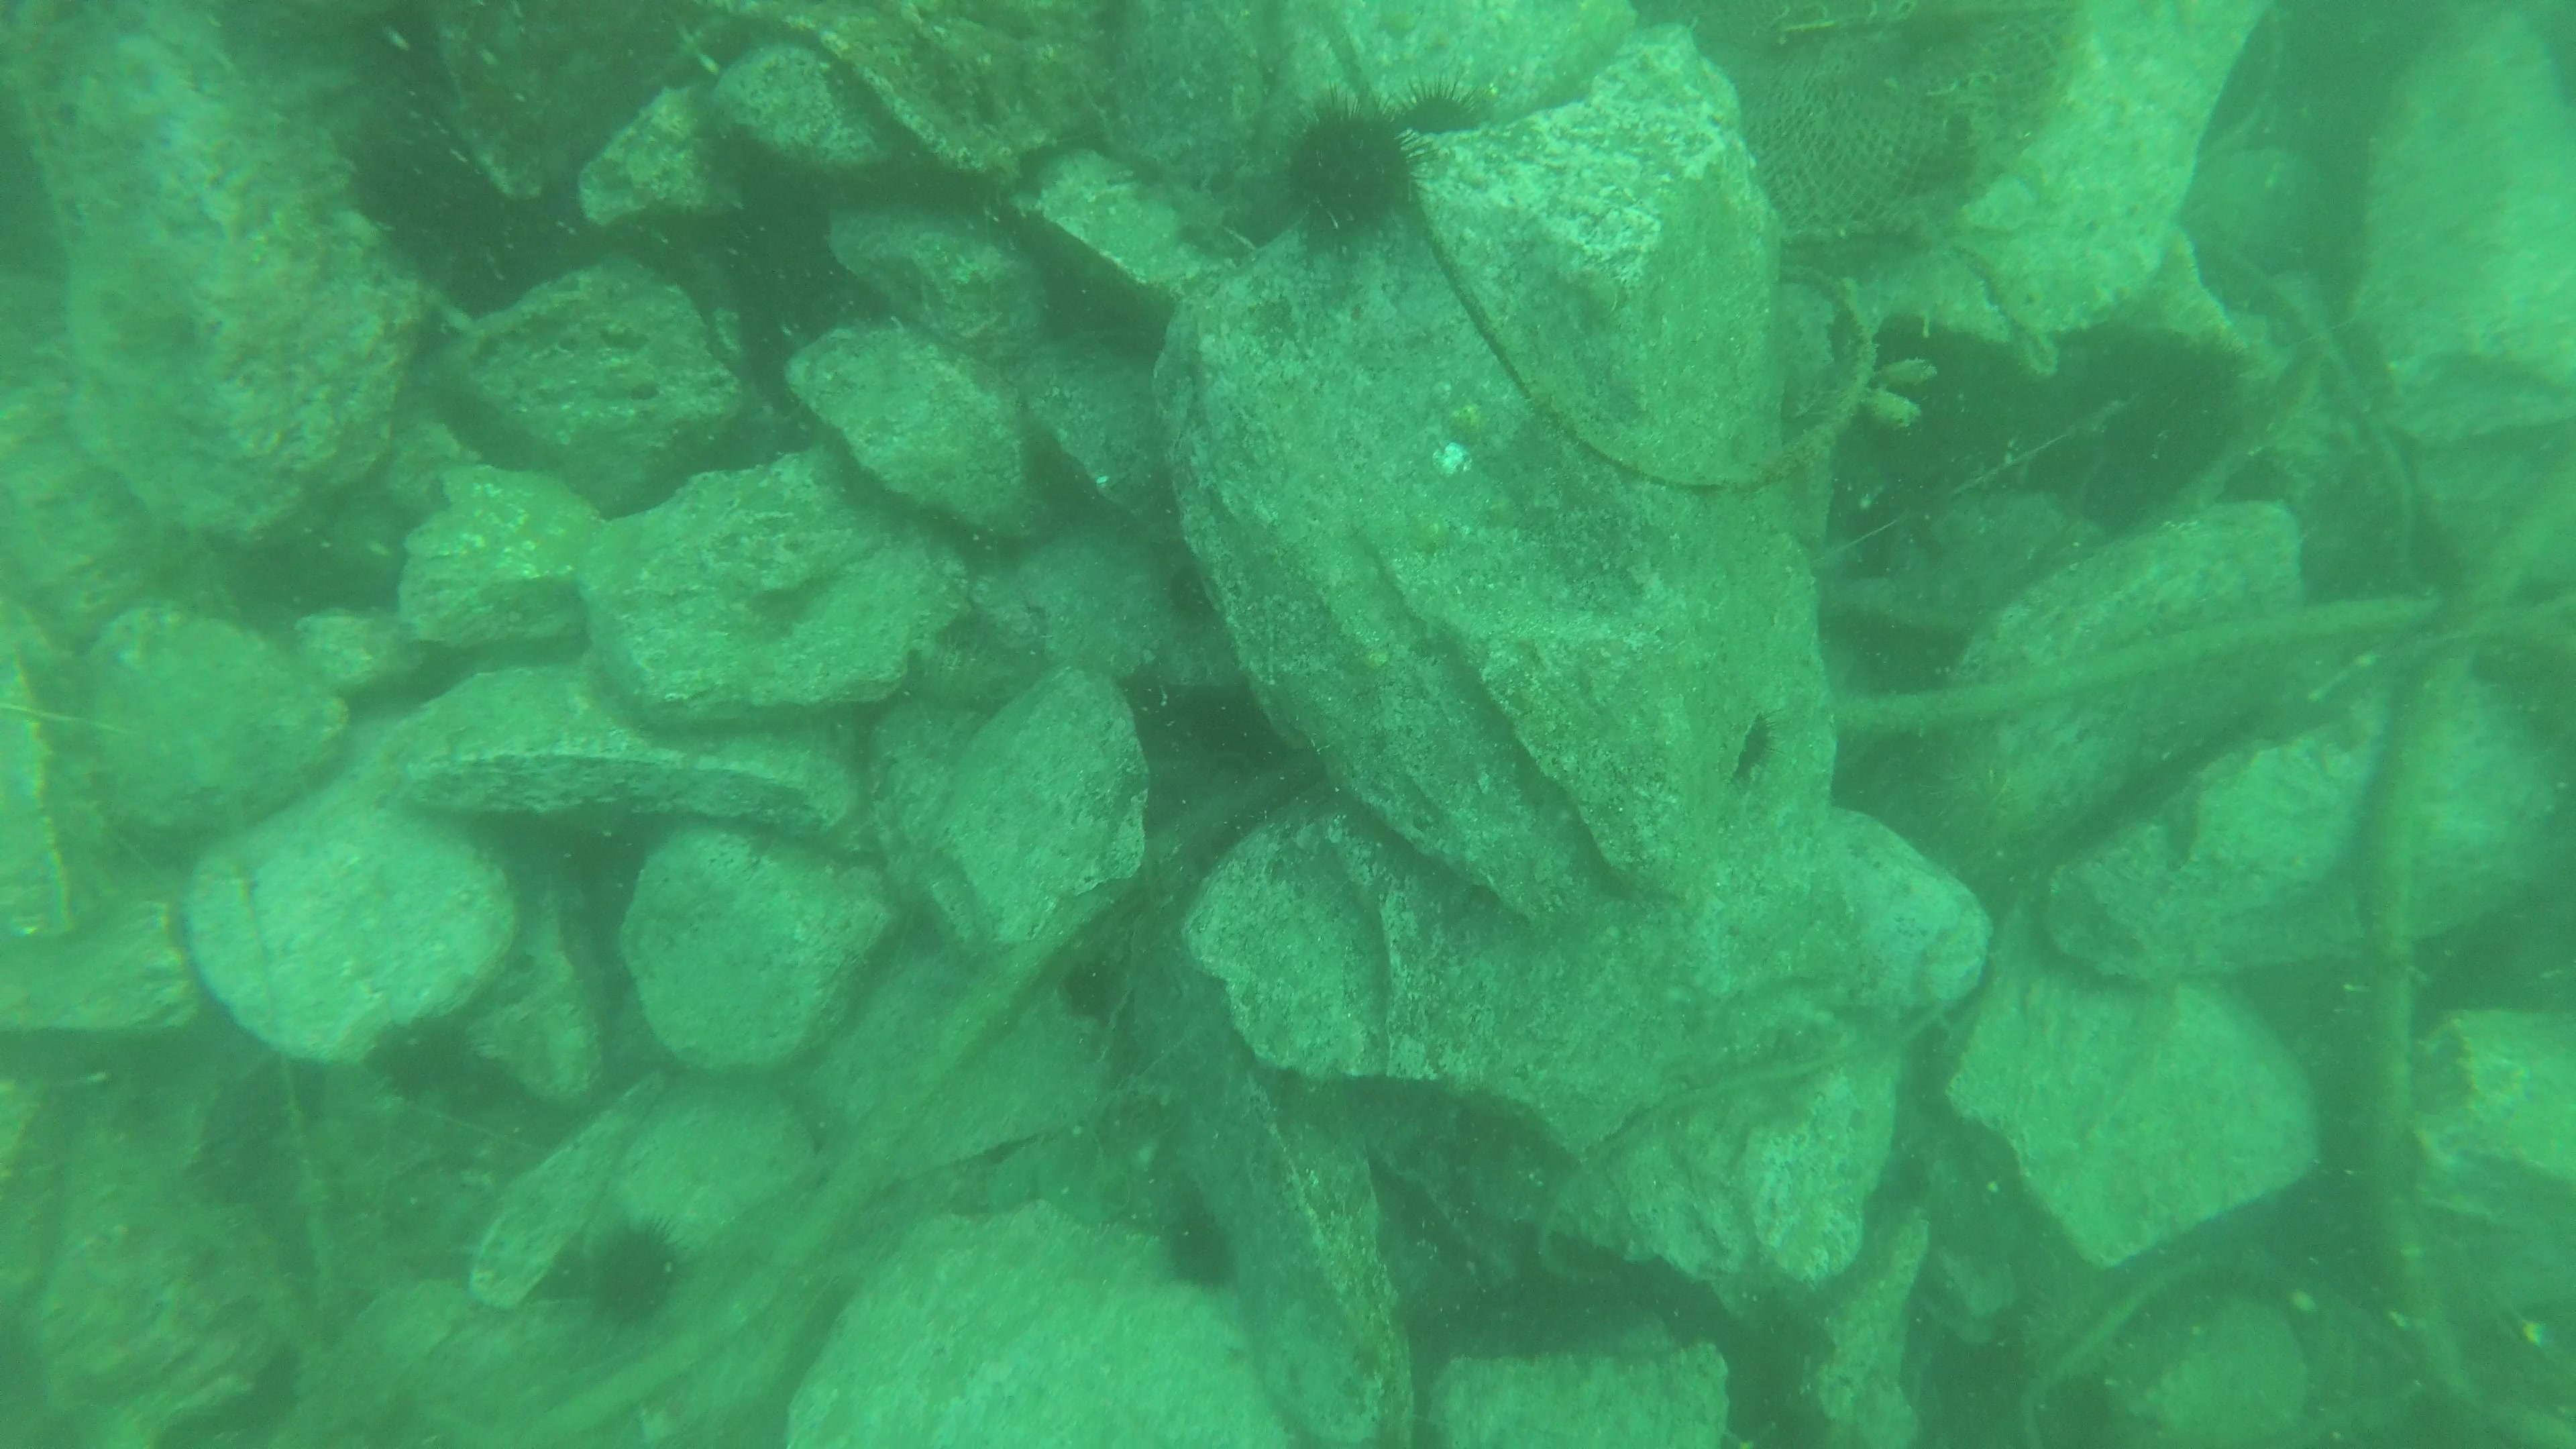echinus: (1292, 108, 1401, 244), (587, 1223, 681, 1327), (1391, 88, 1484, 145), (1161, 561, 1215, 640), (1161, 1215, 1230, 1272), (1063, 961, 1123, 1024)
